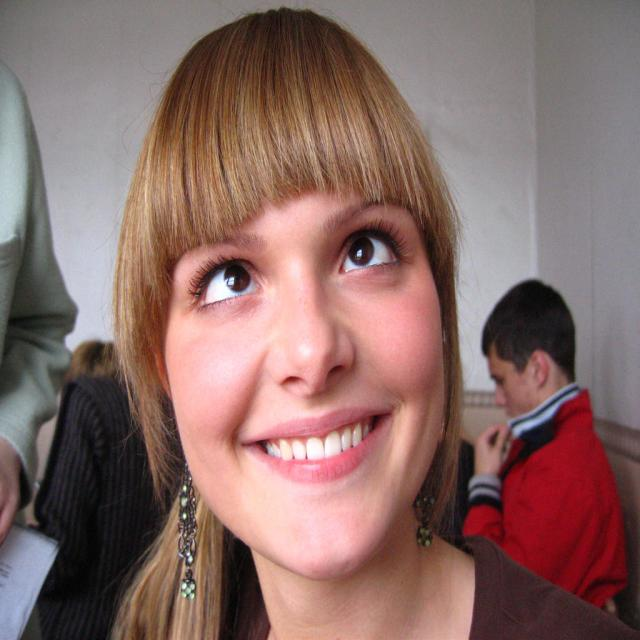Squint: (190, 242, 266, 320), (335, 220, 400, 285)
